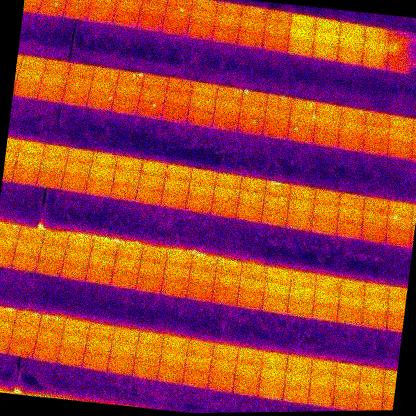Diode: (264, 181, 291, 199), (0, 305, 17, 324)
Hotspot: (334, 361, 361, 382), (237, 115, 264, 135), (236, 347, 263, 367), (112, 326, 140, 345), (14, 310, 42, 329), (288, 124, 314, 144), (215, 258, 242, 277), (386, 213, 413, 232), (136, 101, 163, 120), (262, 194, 290, 212), (136, 331, 164, 349), (118, 69, 144, 88), (63, 2, 89, 21), (361, 210, 388, 228), (339, 107, 366, 125), (290, 98, 317, 116), (265, 94, 292, 112), (92, 66, 119, 84), (38, 315, 65, 333), (240, 89, 268, 106), (38, 0, 66, 17), (87, 93, 113, 111), (216, 86, 243, 103), (290, 112, 316, 129), (316, 102, 342, 119), (238, 18, 265, 34), (115, 83, 140, 100), (164, 5, 190, 21), (0, 222, 20, 240), (91, 0, 117, 11), (141, 0, 167, 5)
Normal: (385, 139, 414, 160), (110, 180, 138, 201), (336, 46, 364, 67), (212, 24, 240, 45), (261, 293, 288, 314), (211, 285, 238, 306), (363, 281, 390, 302), (211, 111, 238, 132), (336, 307, 364, 327), (186, 282, 214, 302), (160, 278, 188, 298), (110, 270, 138, 290), (11, 166, 39, 186), (332, 377, 360, 397), (56, 347, 84, 367), (186, 338, 214, 358), (86, 6, 115, 25), (362, 134, 388, 155), (85, 265, 112, 285), (339, 278, 366, 298), (384, 228, 411, 248), (285, 211, 312, 231), (287, 197, 314, 217), (111, 96, 138, 116), (208, 372, 235, 392), (157, 364, 184, 384), (32, 343, 59, 363), (63, 318, 90, 338), (360, 311, 388, 330), (236, 291, 264, 310), (361, 296, 389, 315), (337, 292, 365, 311), (336, 206, 364, 225), (35, 170, 63, 189), (338, 192, 366, 211), (313, 187, 341, 206), (312, 128, 340, 147), (364, 110, 392, 129), (232, 377, 260, 396), (360, 52, 388, 71), (311, 42, 339, 61), (286, 39, 314, 58), (186, 21, 214, 40), (337, 34, 365, 53), (358, 381, 386, 400), (7, 339, 35, 358), (358, 366, 386, 385), (162, 104, 188, 124), (262, 35, 288, 55), (286, 355, 312, 375), (311, 302, 338, 321), (286, 299, 313, 318), (35, 258, 62, 277), (263, 280, 290, 299), (88, 251, 115, 270), (289, 270, 316, 289), (165, 251, 192, 270), (360, 225, 387, 244), (310, 216, 337, 235), (261, 207, 288, 226), (235, 204, 262, 223), (185, 195, 212, 214), (160, 190, 187, 209), (60, 175, 87, 194), (282, 385, 309, 404), (337, 132, 364, 151), (186, 108, 213, 127), (13, 81, 40, 100), (191, 80, 218, 99), (182, 370, 209, 389), (82, 351, 109, 370), (159, 350, 186, 369), (84, 336, 111, 355), (60, 332, 87, 351), (310, 359, 337, 378), (36, 328, 63, 347), (261, 351, 288, 370), (211, 343, 238, 362), (312, 288, 340, 306), (212, 273, 240, 291), (314, 274, 342, 292), (14, 240, 42, 258), (312, 202, 340, 220), (386, 199, 414, 217), (288, 184, 316, 202), (306, 390, 334, 408), (338, 120, 366, 138), (36, 85, 64, 103), (264, 107, 292, 125), (166, 77, 194, 95), (236, 32, 264, 50), (160, 18, 188, 36), (362, 39, 390, 57), (136, 14, 164, 32), (338, 22, 366, 40), (134, 347, 162, 365), (136, 275, 162, 294), (12, 253, 38, 272), (265, 266, 291, 285), (136, 186, 162, 205), (86, 178, 112, 197), (262, 120, 288, 139), (164, 90, 190, 109), (12, 324, 38, 343), (162, 334, 188, 353), (60, 262, 87, 280), (163, 265, 190, 283), (239, 263, 266, 281), (190, 255, 217, 273), (140, 246, 167, 264), (91, 238, 118, 256), (66, 234, 93, 252), (335, 222, 362, 240), (188, 181, 215, 199), (162, 177, 189, 195), (15, 154, 42, 172), (214, 171, 241, 189), (91, 151, 118, 169), (66, 148, 93, 166), (257, 382, 284, 400), (62, 89, 89, 107), (388, 114, 415, 132), (40, 72, 67, 90), (107, 356, 134, 374), (363, 25, 390, 43), (259, 366, 286, 384), (234, 363, 261, 381), (210, 358, 237, 376), (88, 323, 115, 341), (138, 260, 166, 277), (112, 257, 140, 274), (116, 243, 144, 260), (212, 186, 240, 203), (164, 164, 192, 181), (115, 156, 143, 173), (17, 141, 45, 158), (188, 94, 216, 111), (19, 55, 47, 72), (312, 30, 340, 47), (308, 375, 336, 392), (184, 355, 212, 372), (288, 285, 314, 303), (188, 268, 214, 286), (64, 248, 90, 266), (18, 226, 44, 244), (190, 168, 216, 186), (332, 393, 358, 411), (314, 115, 340, 133), (140, 87, 166, 105), (142, 73, 168, 91), (68, 62, 94, 80), (132, 362, 158, 380), (112, 10, 138, 28), (284, 371, 310, 389), (110, 341, 136, 359), (238, 278, 265, 295), (39, 244, 66, 261), (42, 230, 69, 247), (210, 201, 237, 218), (237, 191, 264, 208), (363, 197, 390, 214), (140, 160, 167, 177), (356, 394, 383, 411), (89, 80, 116, 97), (289, 13, 316, 30), (265, 9, 292, 26), (240, 5, 267, 22), (216, 0, 243, 17), (138, 173, 164, 190), (88, 165, 114, 182), (64, 162, 90, 179), (240, 176, 266, 193), (66, 76, 92, 93), (44, 59, 70, 76), (264, 22, 290, 39), (189, 8, 215, 25), (140, 1, 166, 18), (315, 18, 341, 35), (362, 123, 390, 138), (114, 170, 140, 186), (42, 144, 68, 160), (214, 99, 240, 115), (288, 27, 314, 43), (214, 13, 240, 29), (16, 69, 43, 84), (40, 158, 66, 173), (388, 128, 414, 143), (239, 103, 265, 118), (115, 0, 142, 13), (191, 0, 217, 12), (0, 237, 17, 253), (0, 320, 14, 339), (166, 0, 192, 10), (0, 334, 10, 354), (66, 0, 92, 6), (42, 0, 67, 2)
Shadow: (387, 28, 414, 47), (386, 56, 412, 75), (387, 43, 412, 60), (408, 61, 416, 79), (411, 47, 416, 63)
